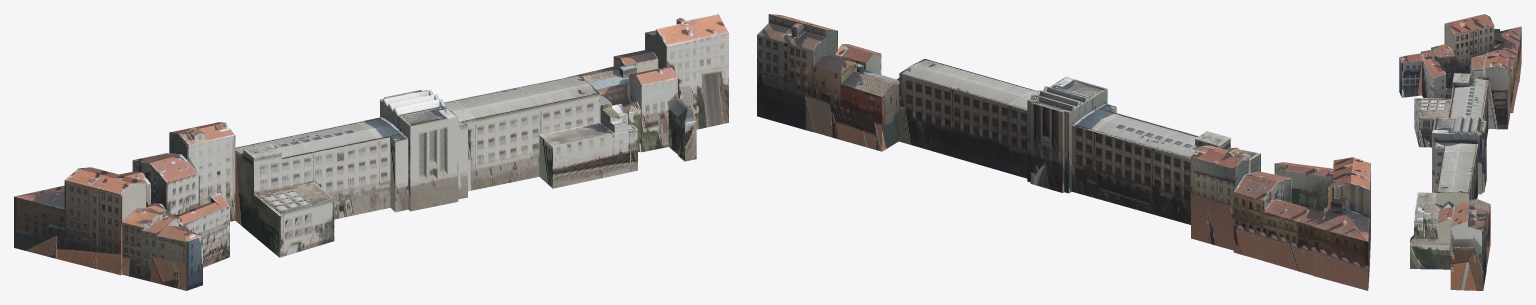
File: LYON_1ER_00006.dae
The picture shows the model from 3 angles, left to right: view 1: azimuth 30°, elevation 25°; view 2: azimuth 150°, elevation 25°; view 3: azimuth 270°, elevation 25°; orthographic projection. The views are drawn at different scales.
Size of the model in its own units: 221 by 50.14 by 31.58.
2 materials, 2 textured.
